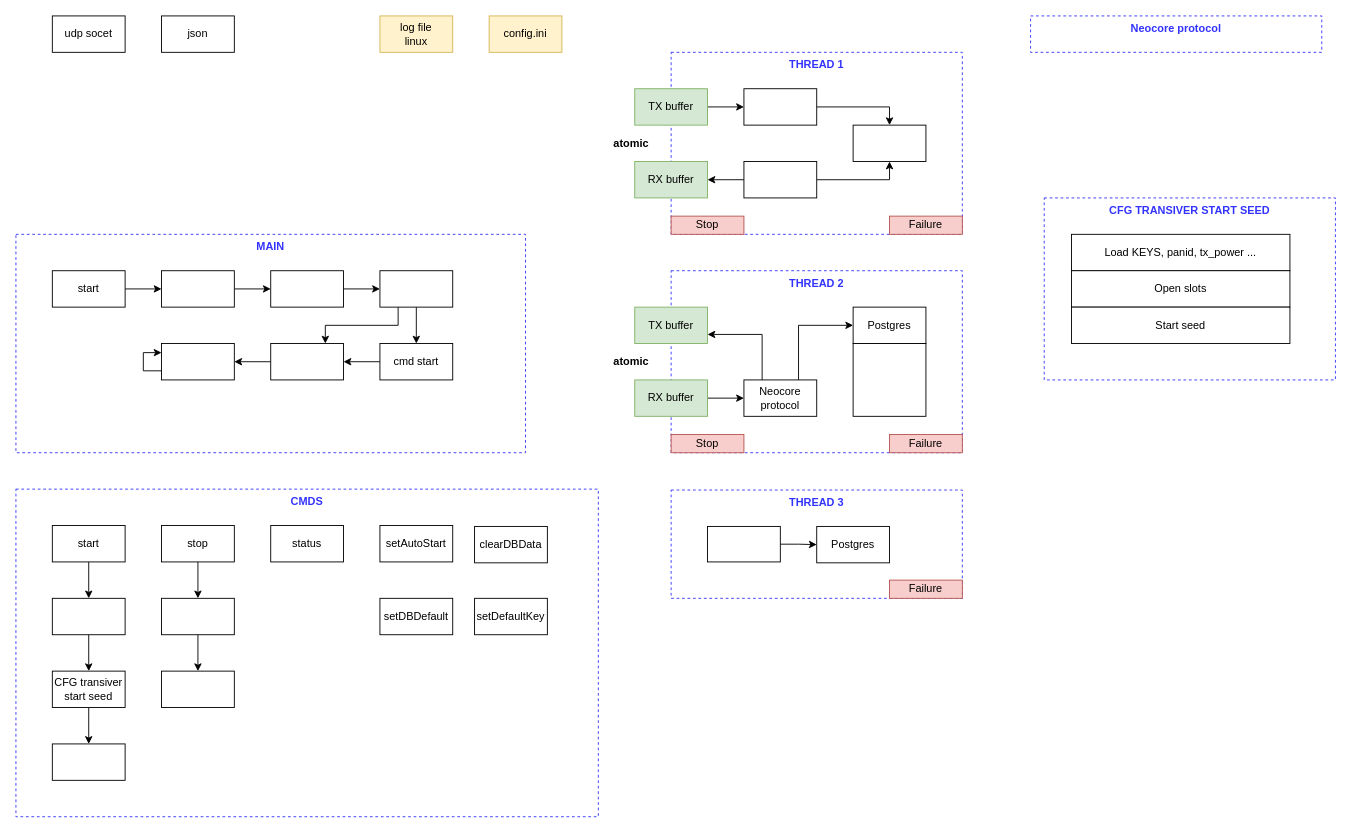
Image size: 1351x833. Some labels were removed from this diagram. The shapes that lost their labels are listed below. From the top down, each one's centre as x and y in pixels, then its label:
At pixel 780 106: "Transmite frame".
At pixel 889 143: "Serial COM".
At pixel 780 179: "Receive frame".
At pixel 197 288: "load config.ini".
At pixel 307 288: "connect db".
At pixel 416 288: "AutoStart? (db record)".
At pixel 197 361: "parse".
At pixel 307 361: "open udp socet".
At pixel 889 379: "Push to db: data info routes".
At pixel 743 544: "Strip DB 10 min by size".
At pixel 88 616: "check db params".
At pixel 197 616: "CFG transiver stop seed".
At pixel 197 689: "Stop threads [1,2,3]".
At pixel 88 761: "Start threads [1,2,3]".
